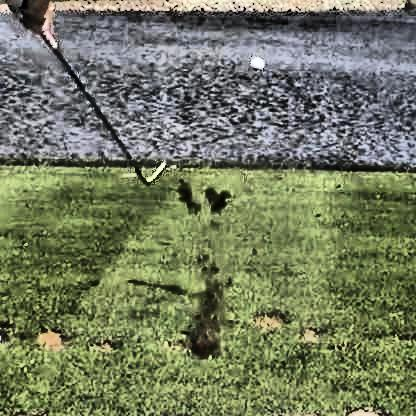golfball: (249, 54, 265, 71)
